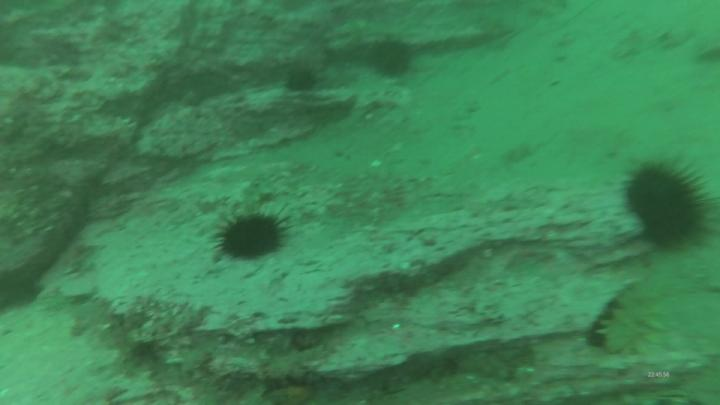echinus: (624, 160, 717, 255), (212, 209, 291, 264), (370, 39, 417, 79), (282, 66, 321, 95)
holothurian: (593, 269, 674, 360)
